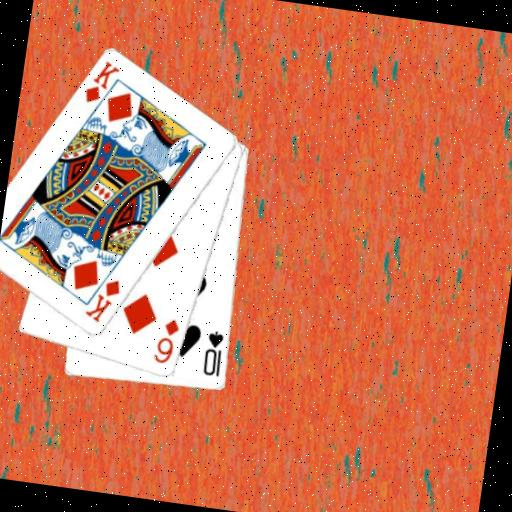10S: (199, 327, 228, 380)
6D: (150, 314, 182, 368)
KD: (81, 272, 124, 327), (81, 56, 123, 109)
